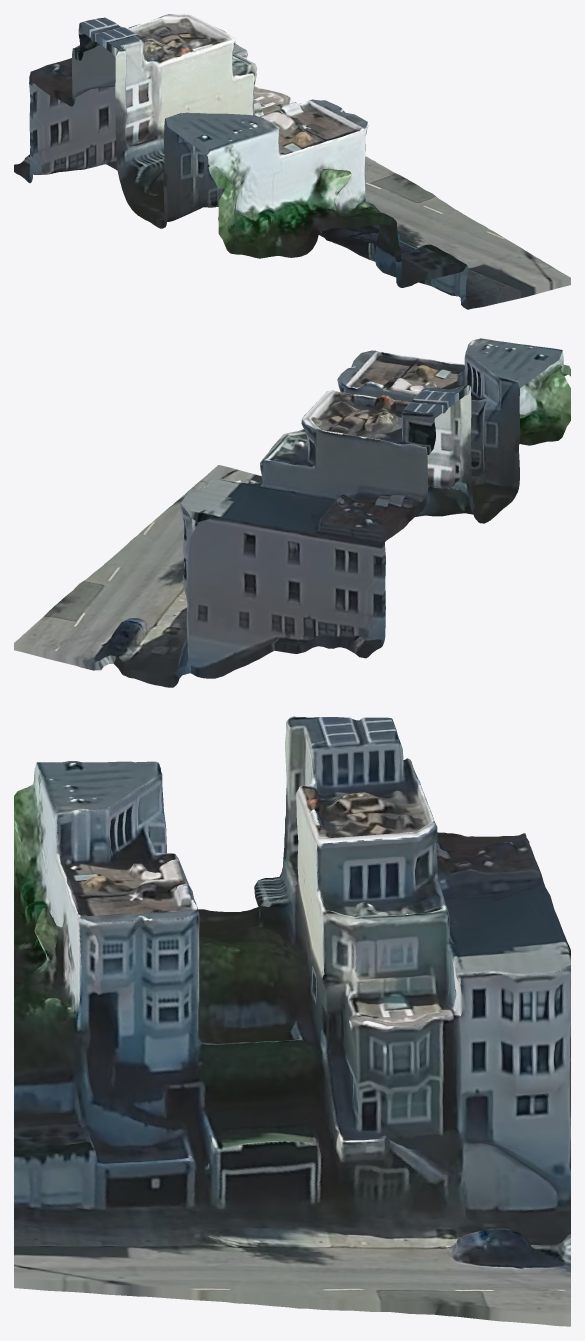
File: z20-167750-405191-h0-yup-uvflip-v3-world.glb
The picture shows the model from 3 angles, top to bottom: view 1: azimuth 30°, elevation 25°; view 2: azimuth 150°, elevation 25°; view 3: azimuth 270°, elevation 25°; orthographic projection. The views are drawn at different scales.
Size of the model in its own units: 30.16 by 22.68 by 30.32.
Materials: 1 (1 with a texture image).
